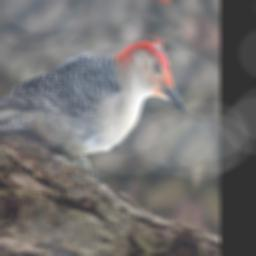Woodpecker: (0, 0, 198, 210)
